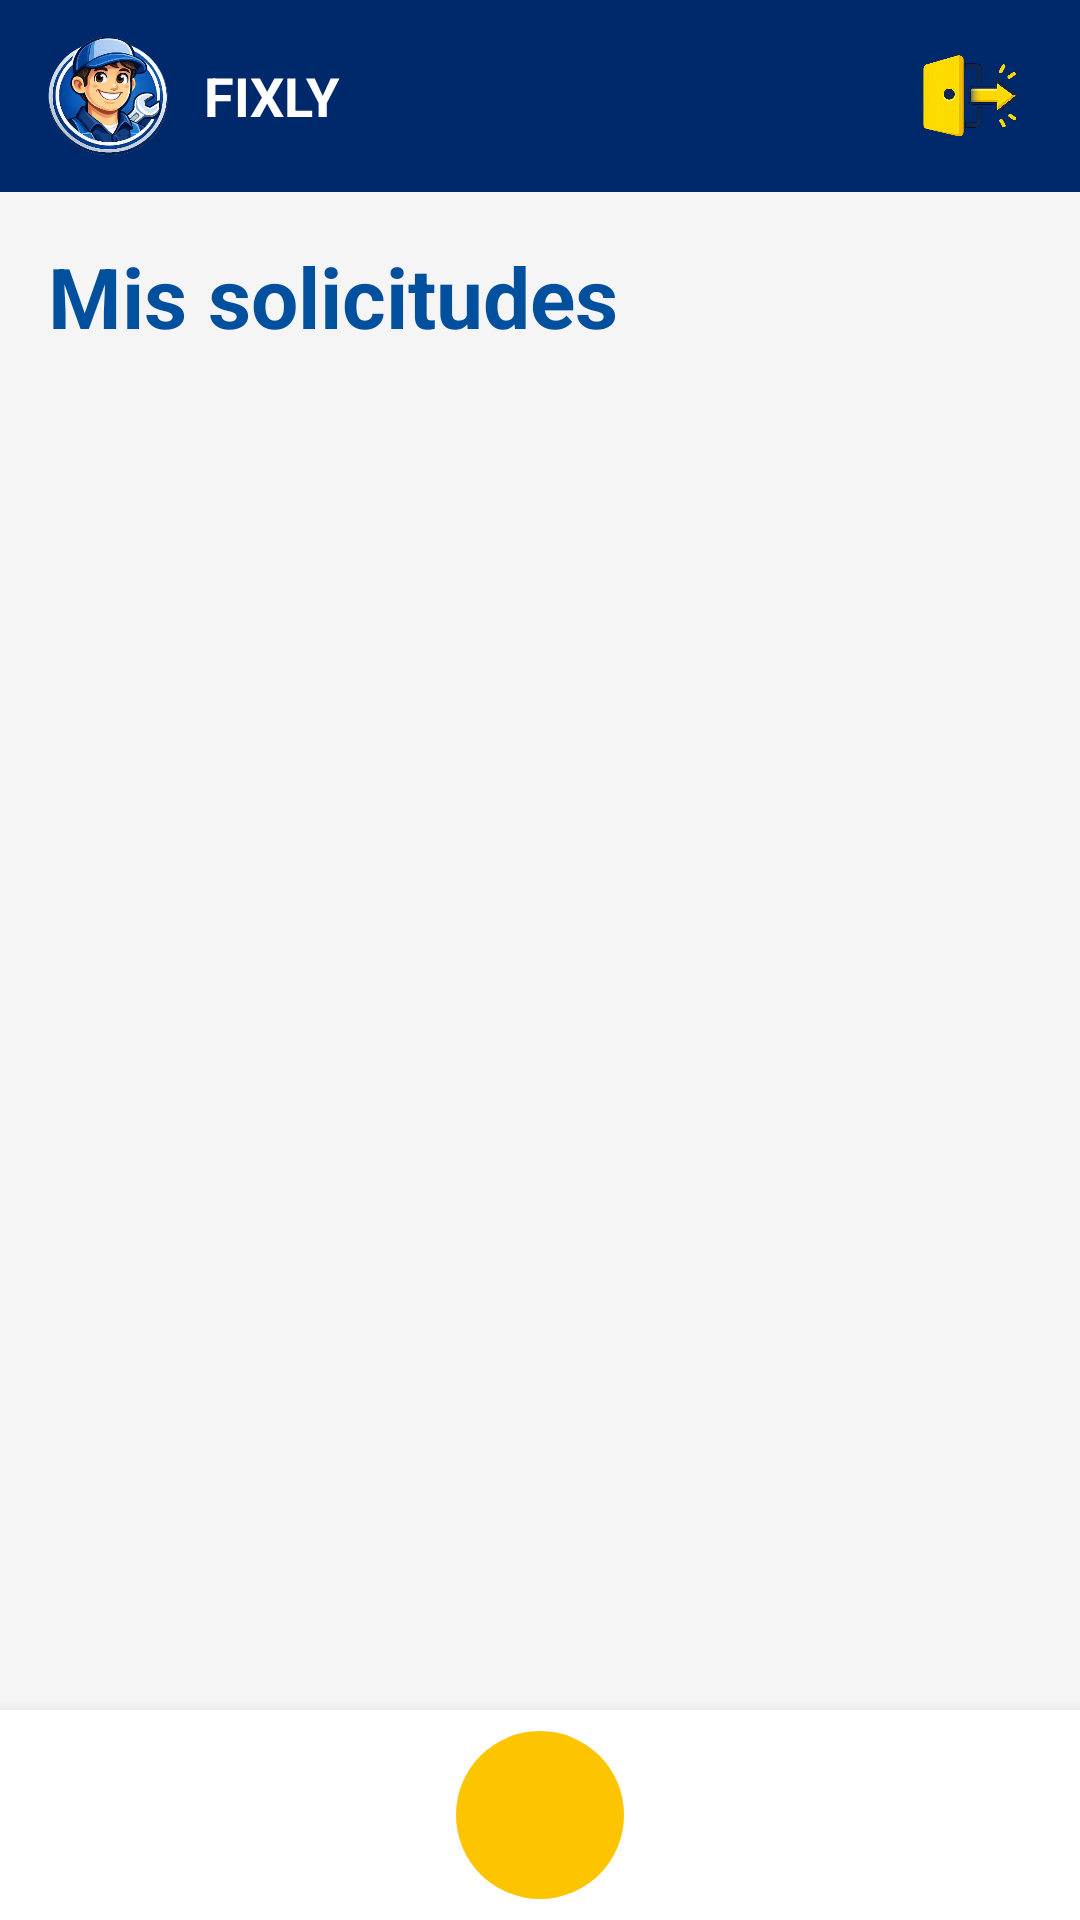

Icon bounding boxes for this 1080w x 1920h phone screenshot, format region(x1, y1, x2, y2):
cerrar sesion: region(923, 55, 1018, 136)
